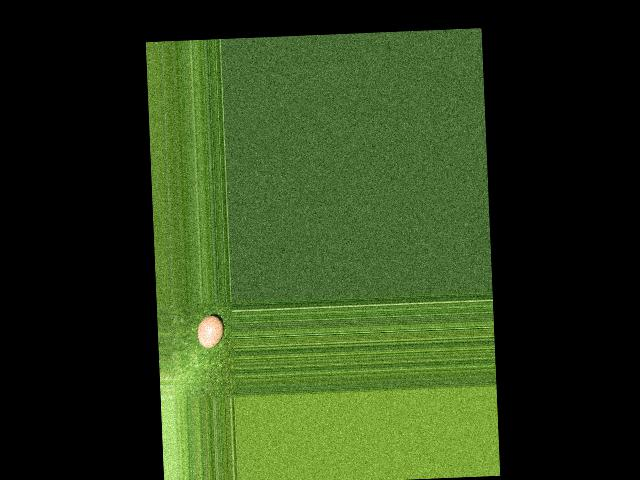egg: (197, 315, 224, 349)
